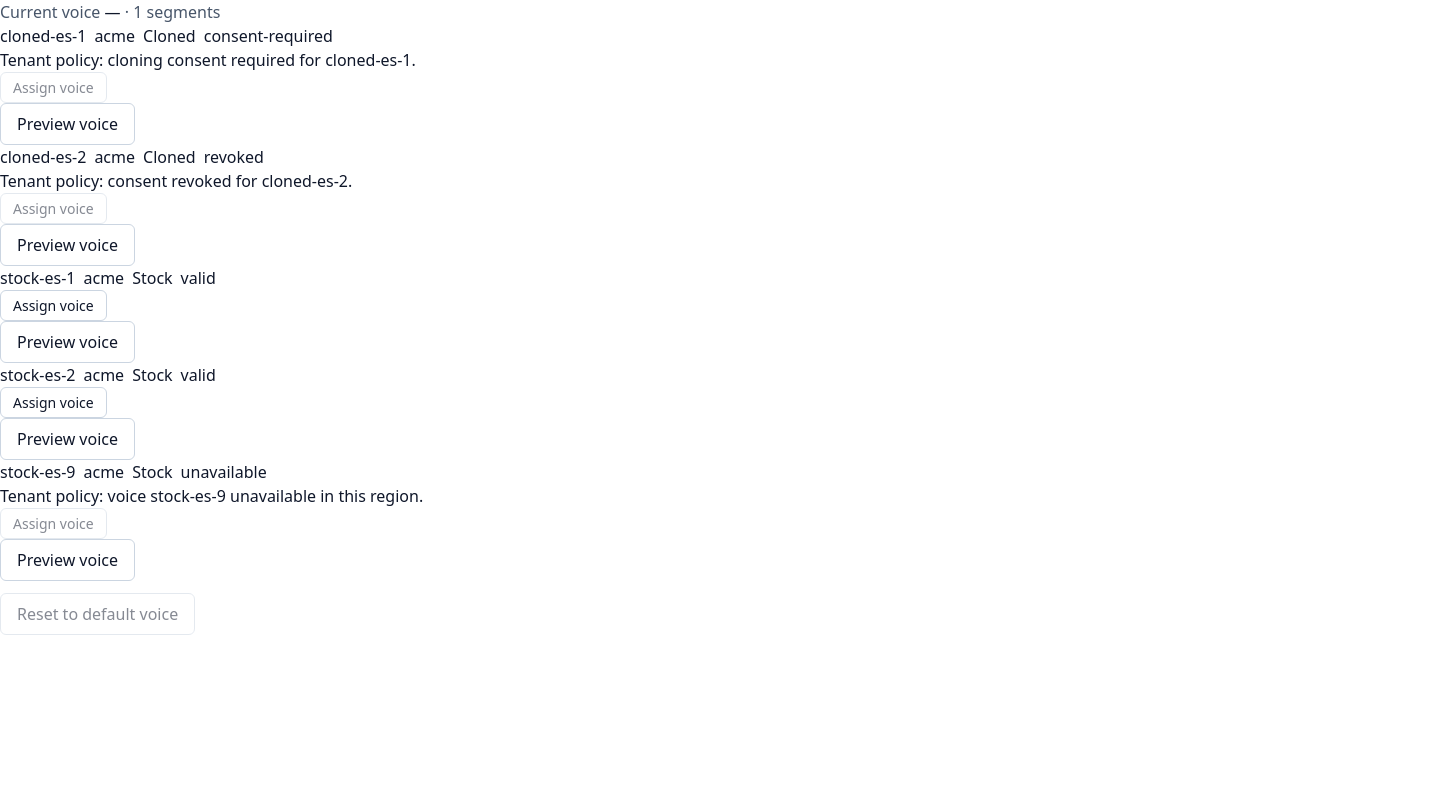
Test case: consent gating (R3) › shows a banner, refetches, and clears selection on revoked assign
Expected: the list item with test id "voices-option-stock-es-1" is shown, [0,267,216,363]
Click the button with test id "voices-select-voice-stock-es-1" at coordinates (53, 306), box [0,290,107,321]
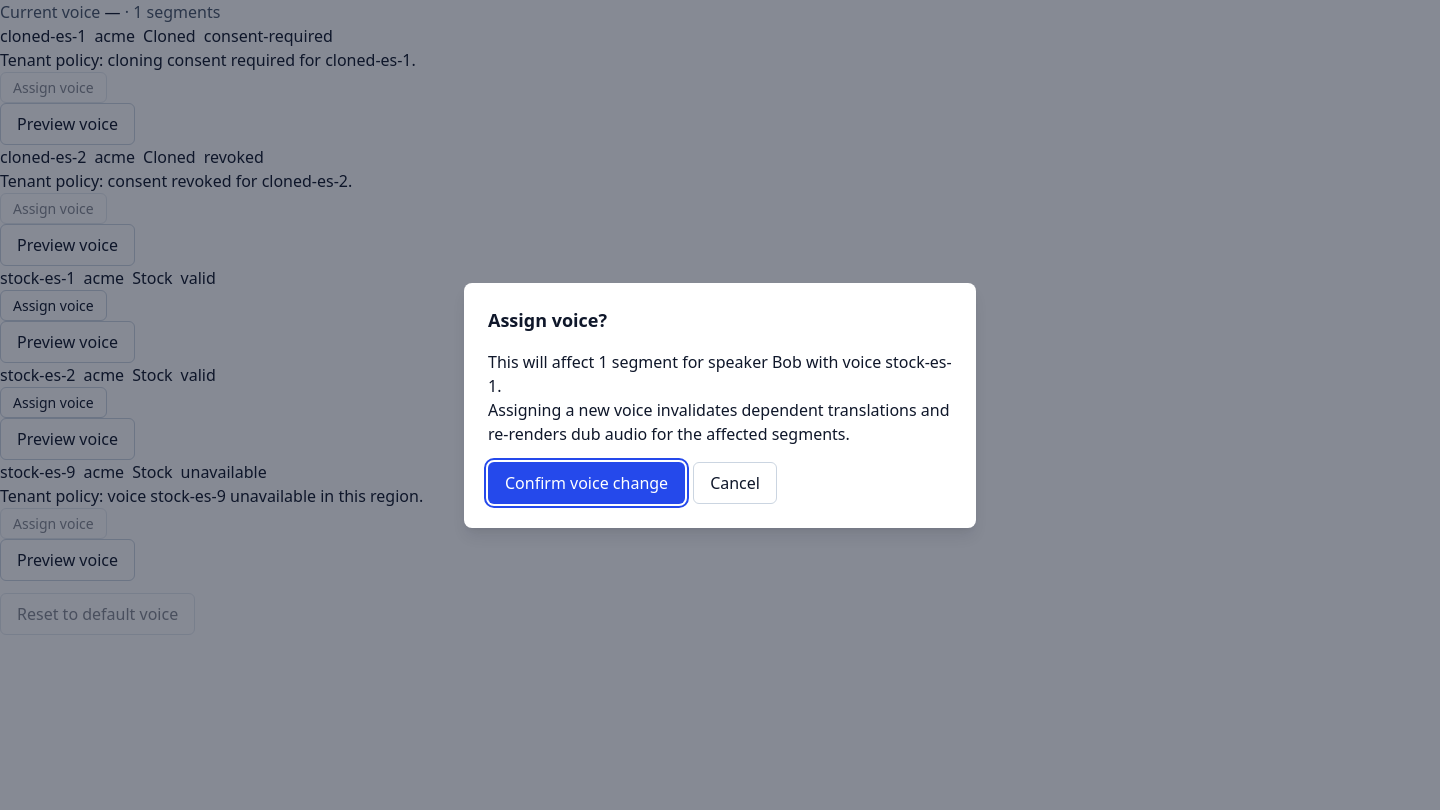
Expected: the element with test id "voices-impact-dialog" is shown, [488,350,952,504]
Click the button with test id "voices-impact-confirm" at coordinates (587, 482), box [488,462,685,504]
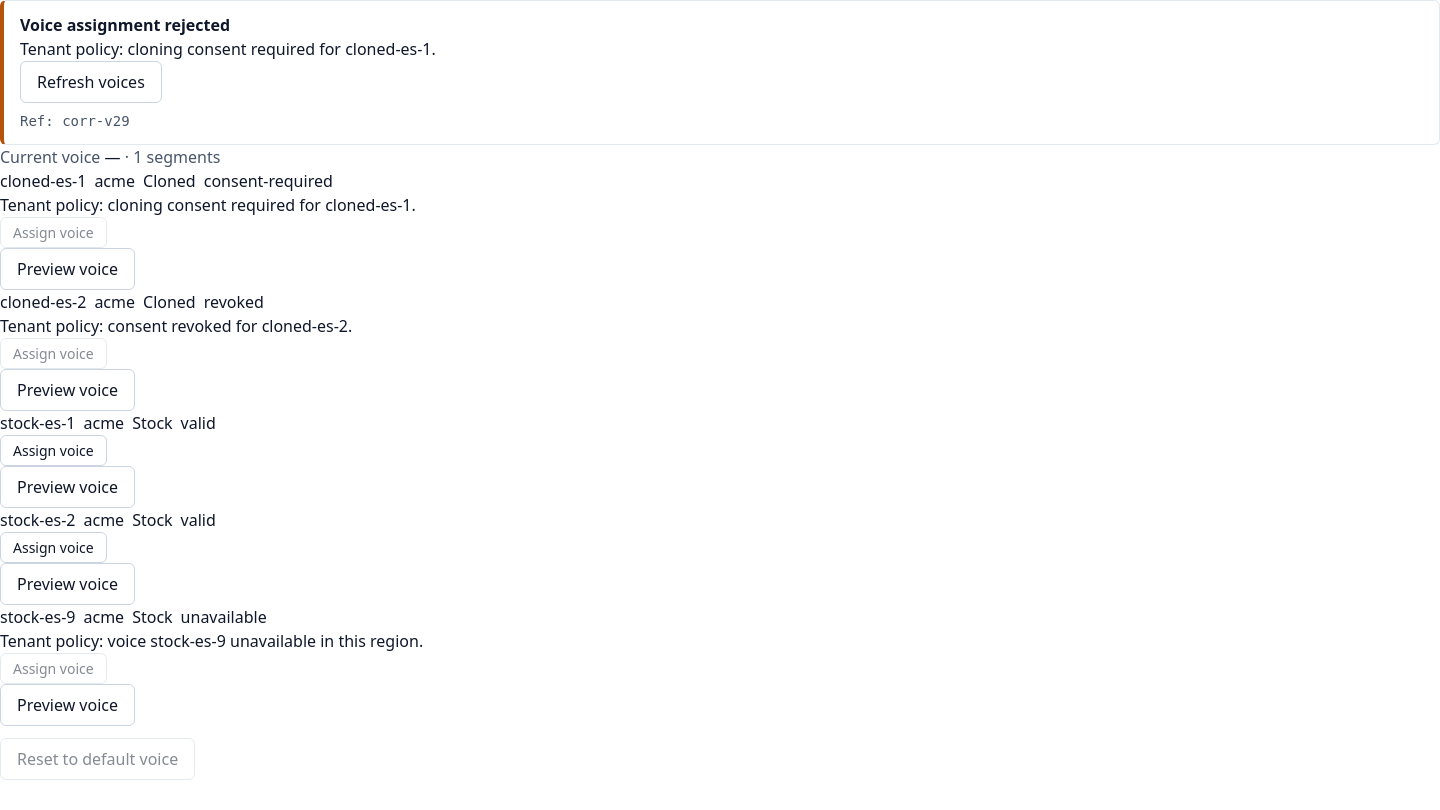
Expected: the element with test id "voices-assign-banner" is shown, [0,0,1439,145]
Expected: the text with test id "voices-assign-message" shows "Tenant policy: cloning consent", [20,38,436,60]
Expected: the element with test id "voices-impact-dialog" is gone
Click the button with test id "voices-assign-refresh" at coordinates (91, 82), box [20,61,162,103]
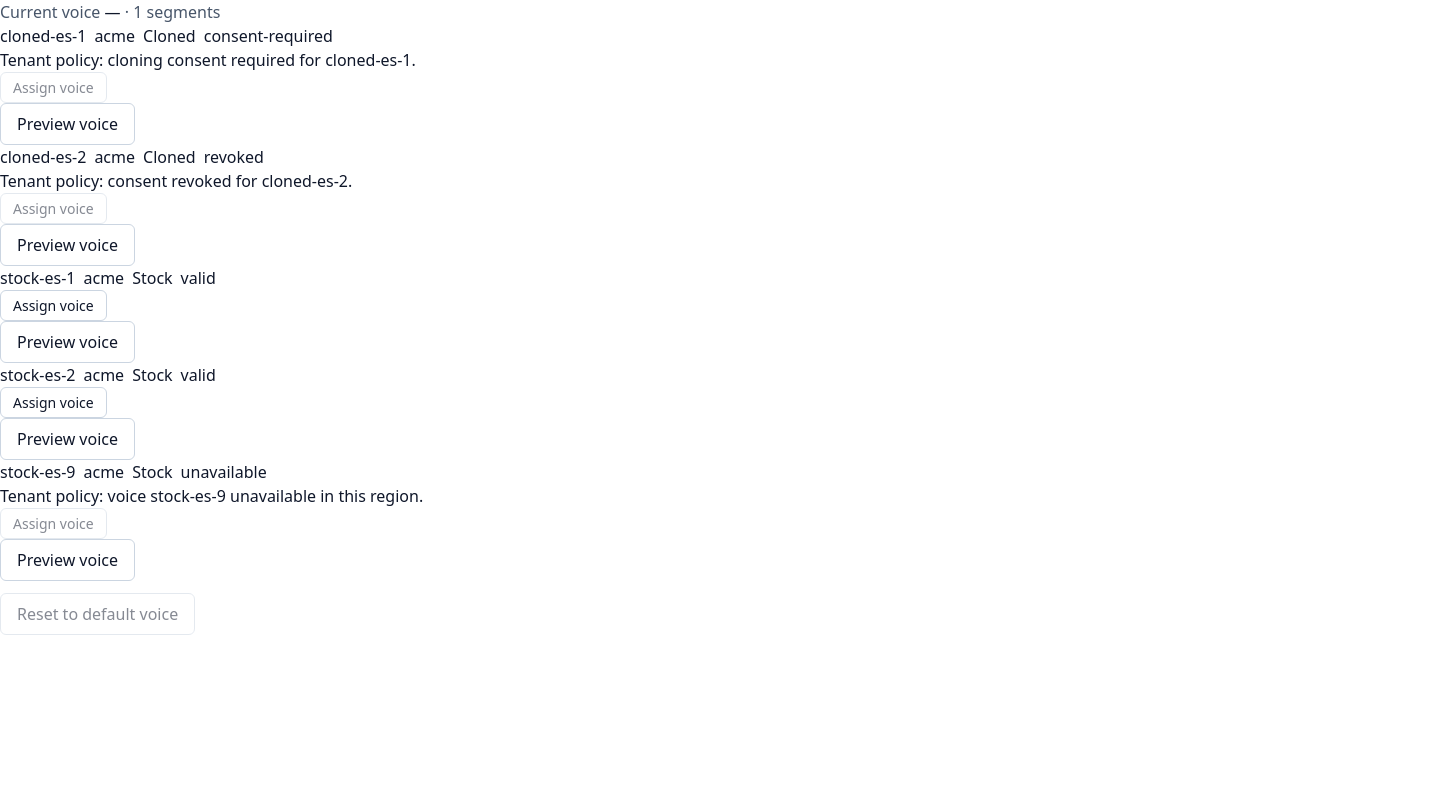
Expected: the element with test id "voices-assign-banner" is gone
